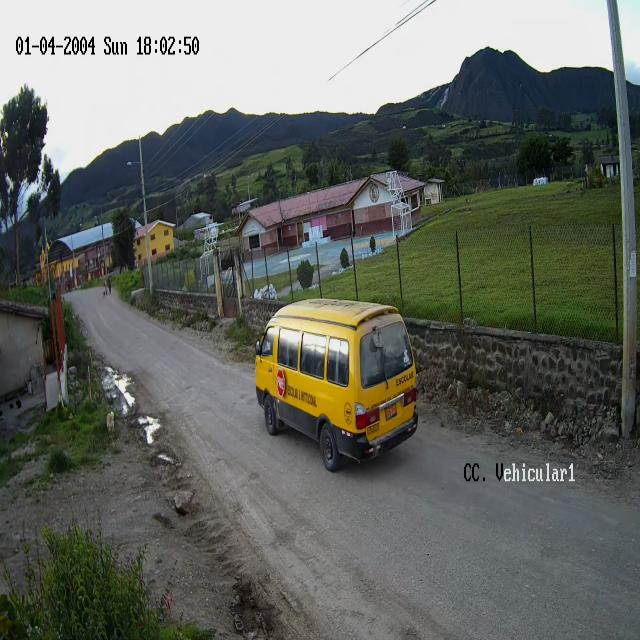BUS: (255, 298, 418, 474)
